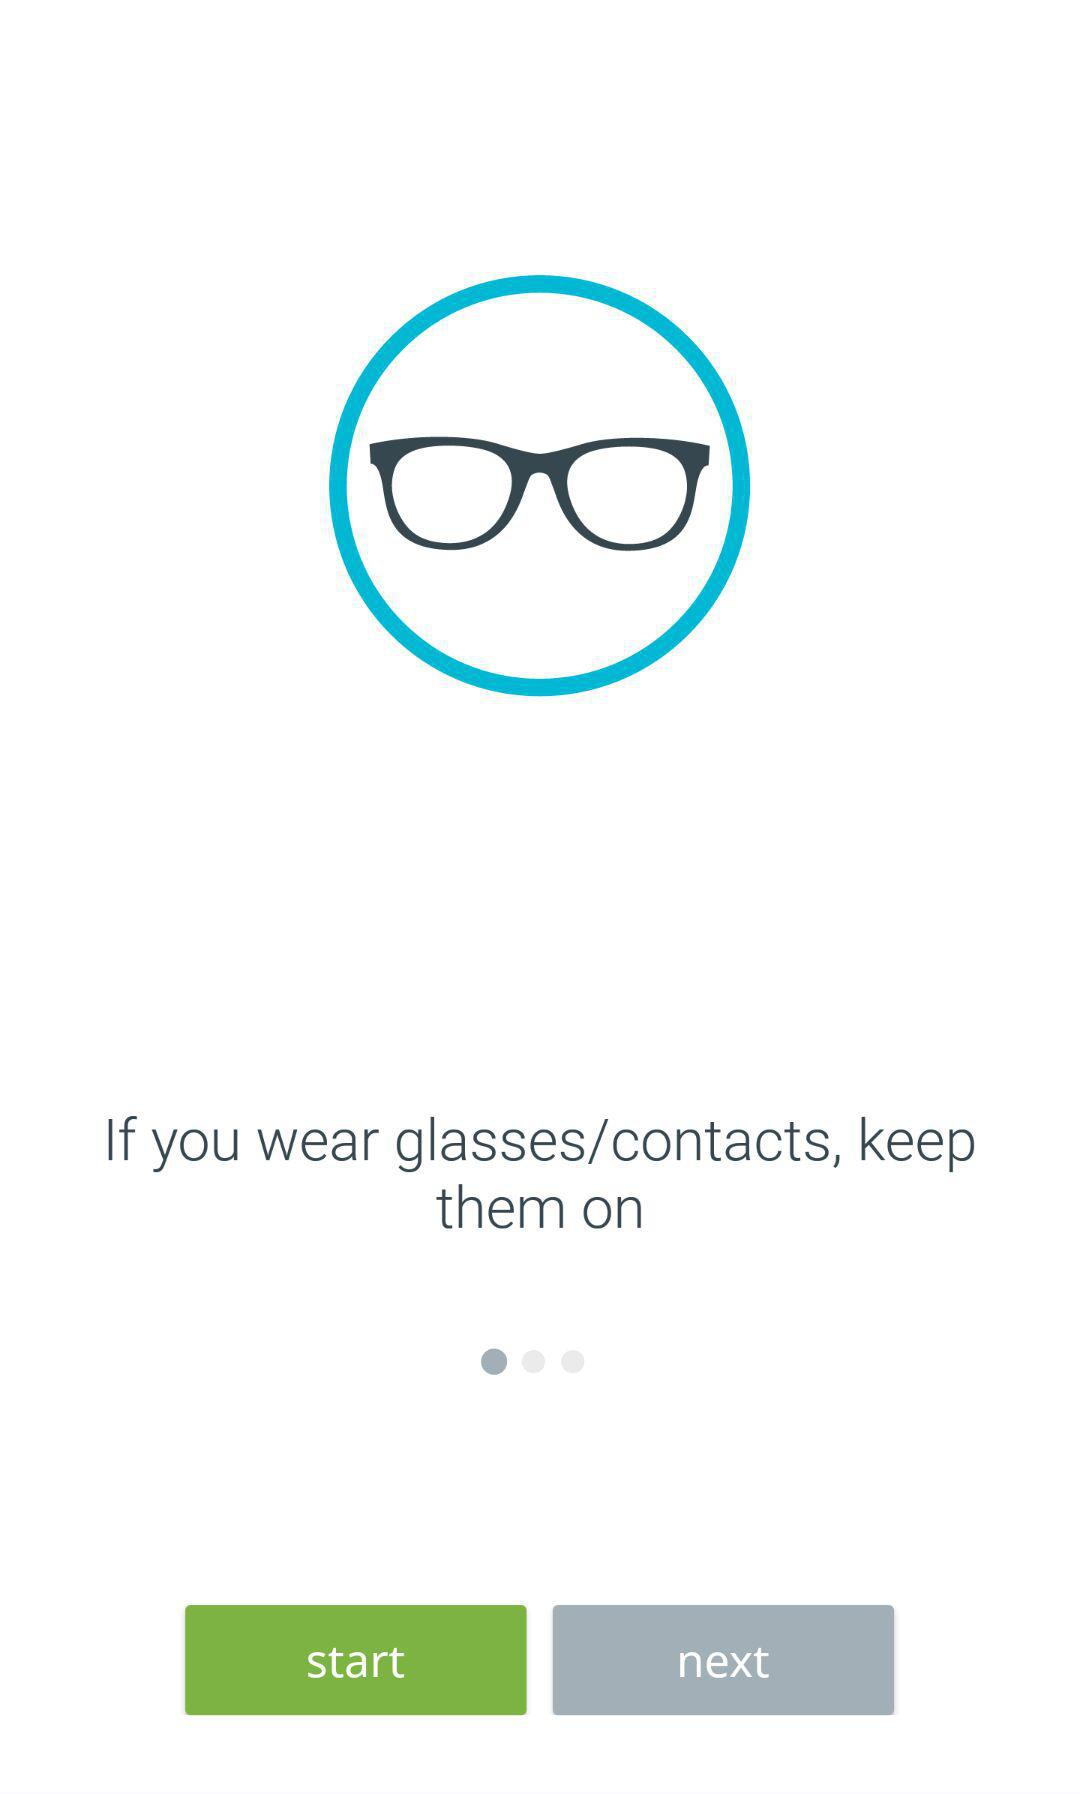Image: (327, 273, 753, 698)
PageIndicator: (480, 1347, 585, 1378)
Text: (108, 1114, 976, 1233)
TextButton: (184, 1604, 529, 1717), (553, 1604, 896, 1716)
